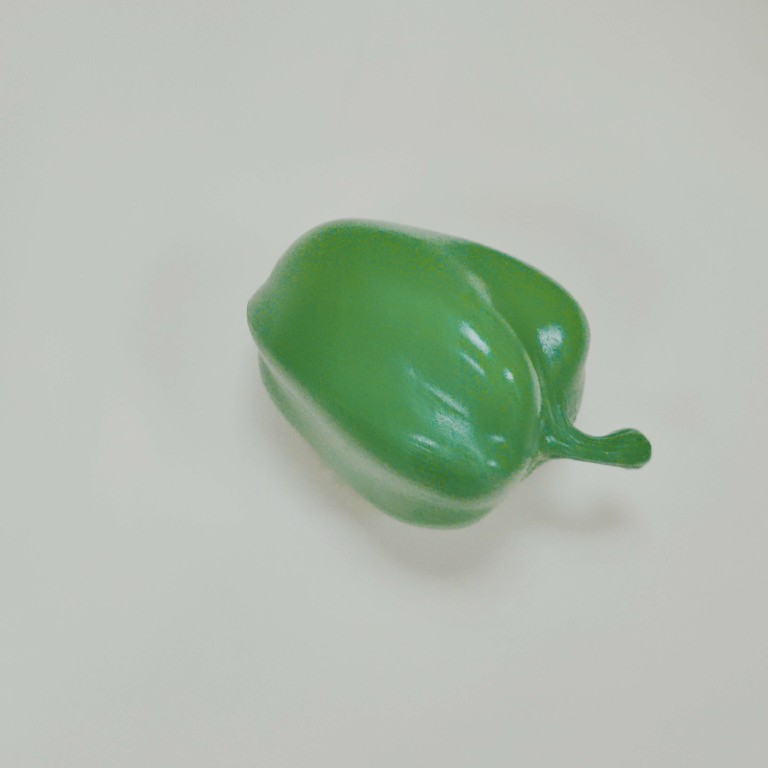fruit_pepper: (243, 213, 656, 539)
